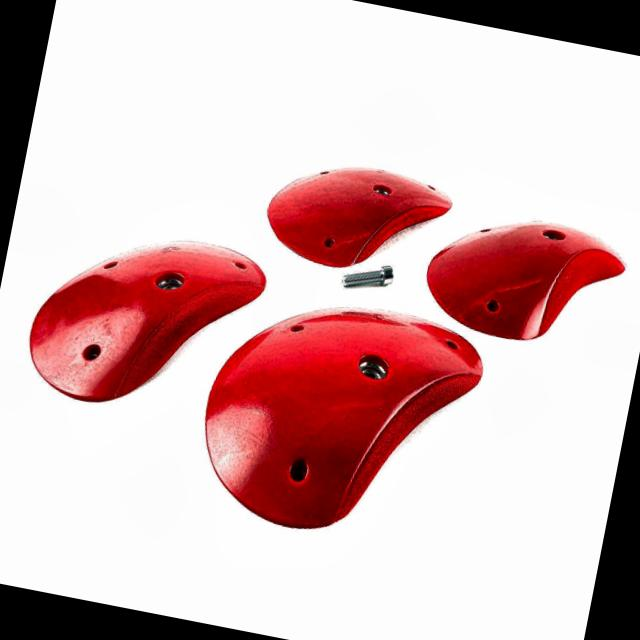Hold: (187, 284, 494, 558), (16, 213, 272, 432), (410, 196, 634, 357), (264, 150, 452, 288)
